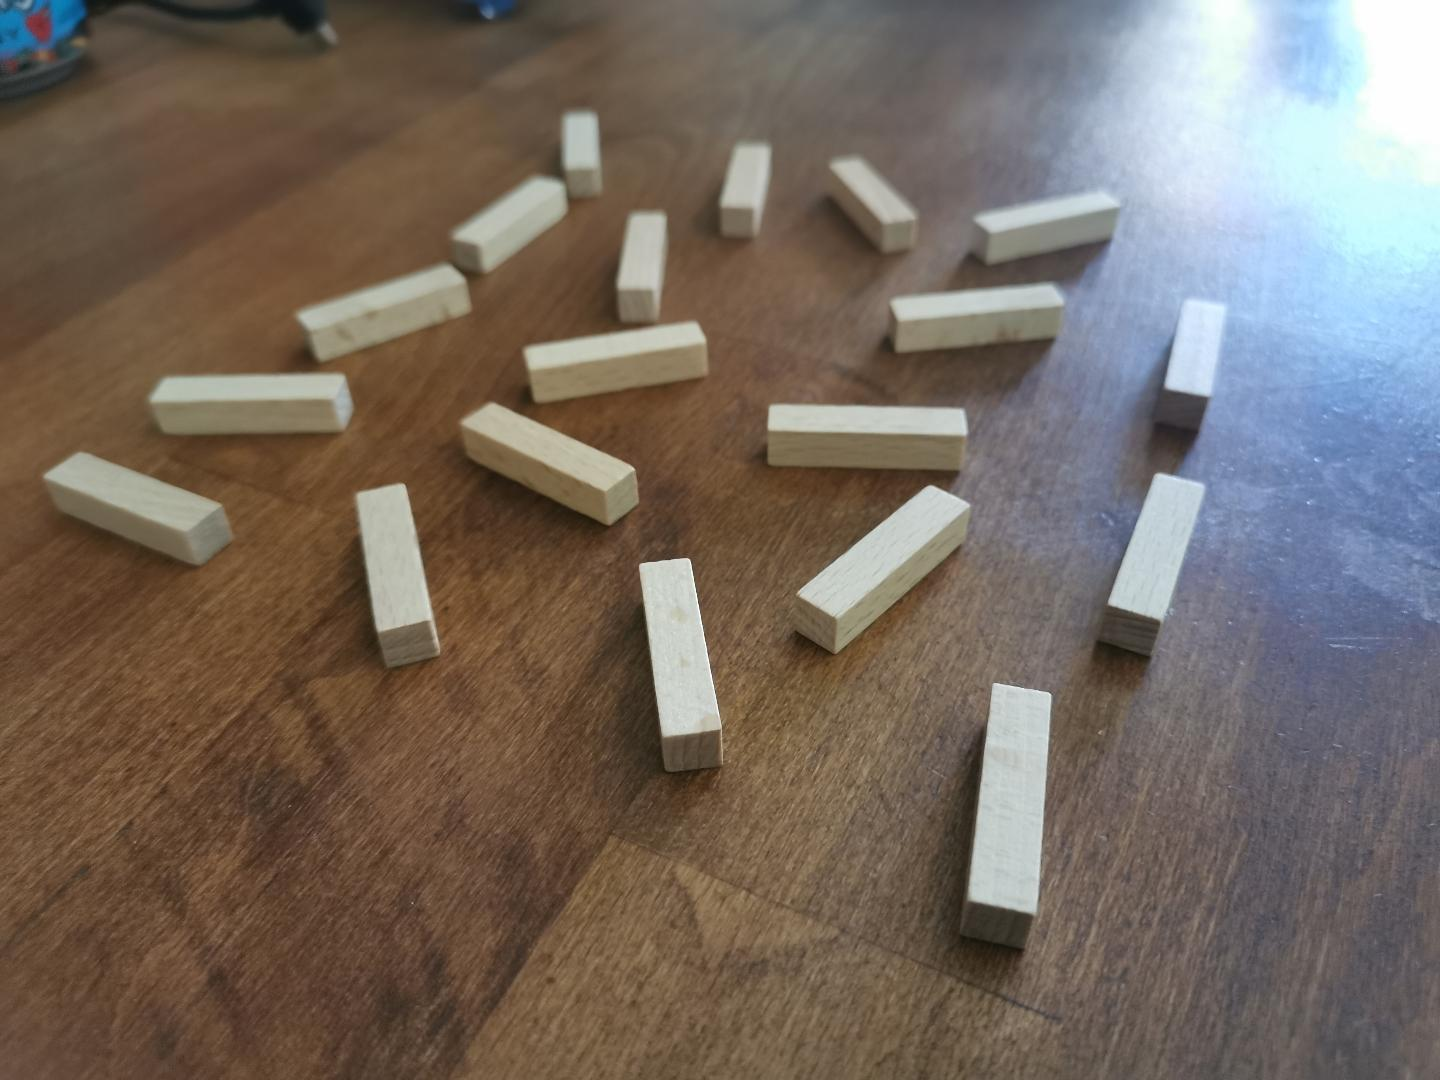jenga: (793, 487, 971, 652), (959, 683, 1052, 947), (461, 403, 638, 526), (45, 453, 234, 565), (1096, 472, 1204, 656), (638, 559, 722, 770), (295, 264, 473, 363), (523, 321, 709, 403), (357, 483, 439, 667), (768, 405, 967, 470), (149, 374, 351, 433), (891, 284, 1064, 352), (452, 175, 568, 272), (971, 192, 1119, 264), (1153, 298, 1226, 430), (824, 154, 917, 253), (616, 211, 667, 323), (718, 141, 771, 239), (560, 110, 602, 200)
